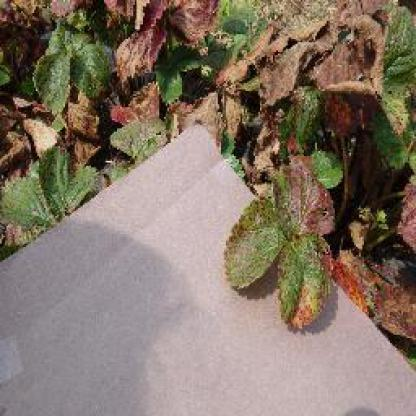leaf scorch: (208, 102, 358, 358)
